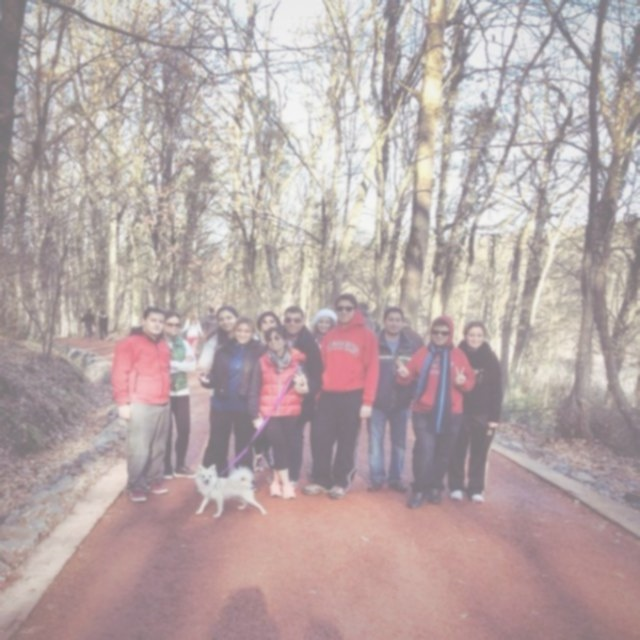pessoa: (298, 290, 384, 500), (391, 314, 478, 512), (107, 302, 174, 503), (246, 324, 315, 500), (196, 316, 269, 482), (364, 306, 421, 497), (448, 318, 506, 502), (280, 304, 323, 488), (195, 306, 242, 470), (158, 310, 200, 480), (344, 306, 374, 392), (310, 308, 340, 352), (179, 310, 203, 354), (254, 310, 283, 346), (356, 302, 378, 336), (79, 306, 97, 342), (200, 306, 218, 334), (97, 308, 111, 342), (180, 312, 188, 338), (402, 314, 414, 328), (84, 328, 90, 338)
